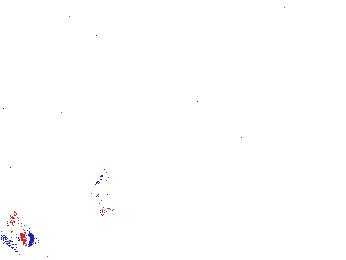X-ray fish: (153, 130, 227, 172), (36, 163, 92, 198), (82, 168, 115, 215), (1, 223, 32, 251)
redtail glassfish: (237, 1, 298, 21)
